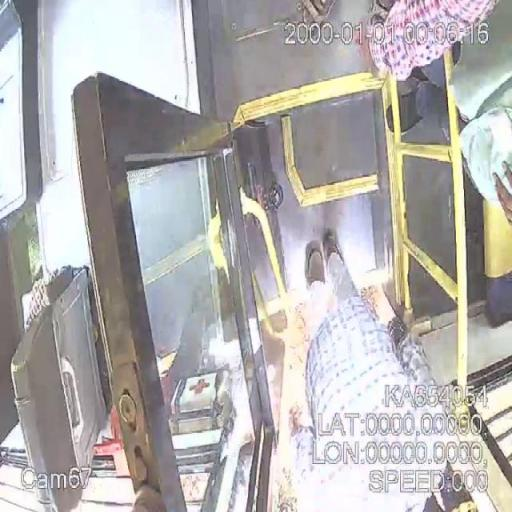persona: (300, 229, 484, 510), (354, 0, 496, 129)
